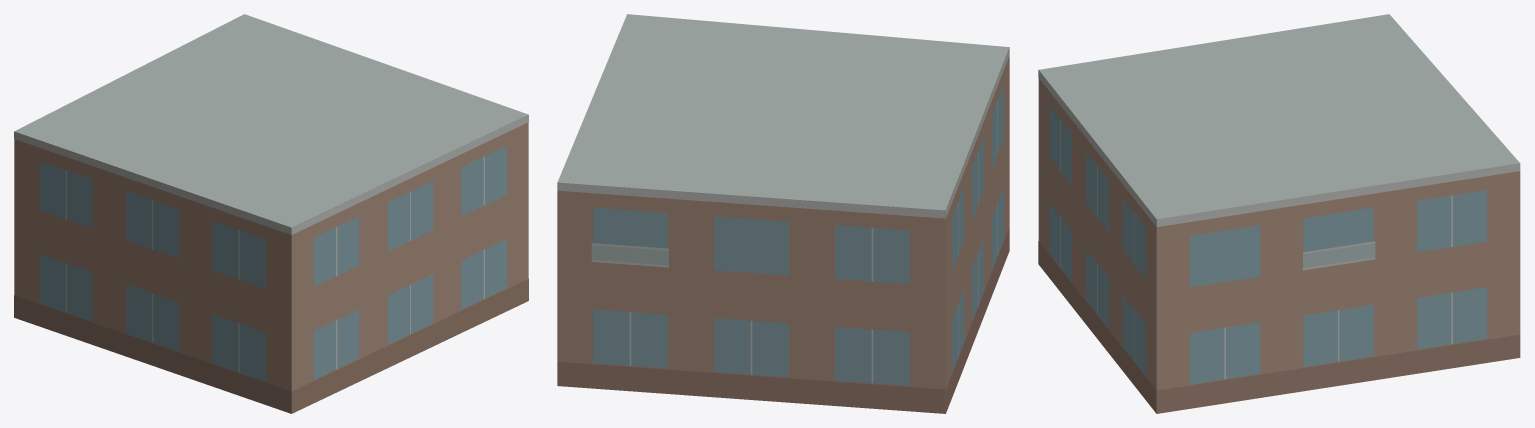
Rendered from survey-upis-33020610.glb.
The picture shows the model from 3 angles, left to right: view 1: azimuth 30°, elevation 25°; view 2: azimuth 150°, elevation 25°; view 3: azimuth 270°, elevation 25°; orthographic projection. The views are drawn at different scales.
Parts seen in each view (by area): view 1: survey-upis-33020610.tmp; view 2: survey-upis-33020610.tmp; view 3: survey-upis-33020610.tmp.
Boxes of the visible parts, x1=… form: survey-upis-33020610.tmp: x1=14, y1=14, x2=528, y2=413; survey-upis-33020610.tmp: x1=557, y1=14, x2=1009, y2=413; survey-upis-33020610.tmp: x1=1038, y1=14, x2=1520, y2=413.
Bounding box in the file's own units: 13.83 × 6.1 × 13.71.
